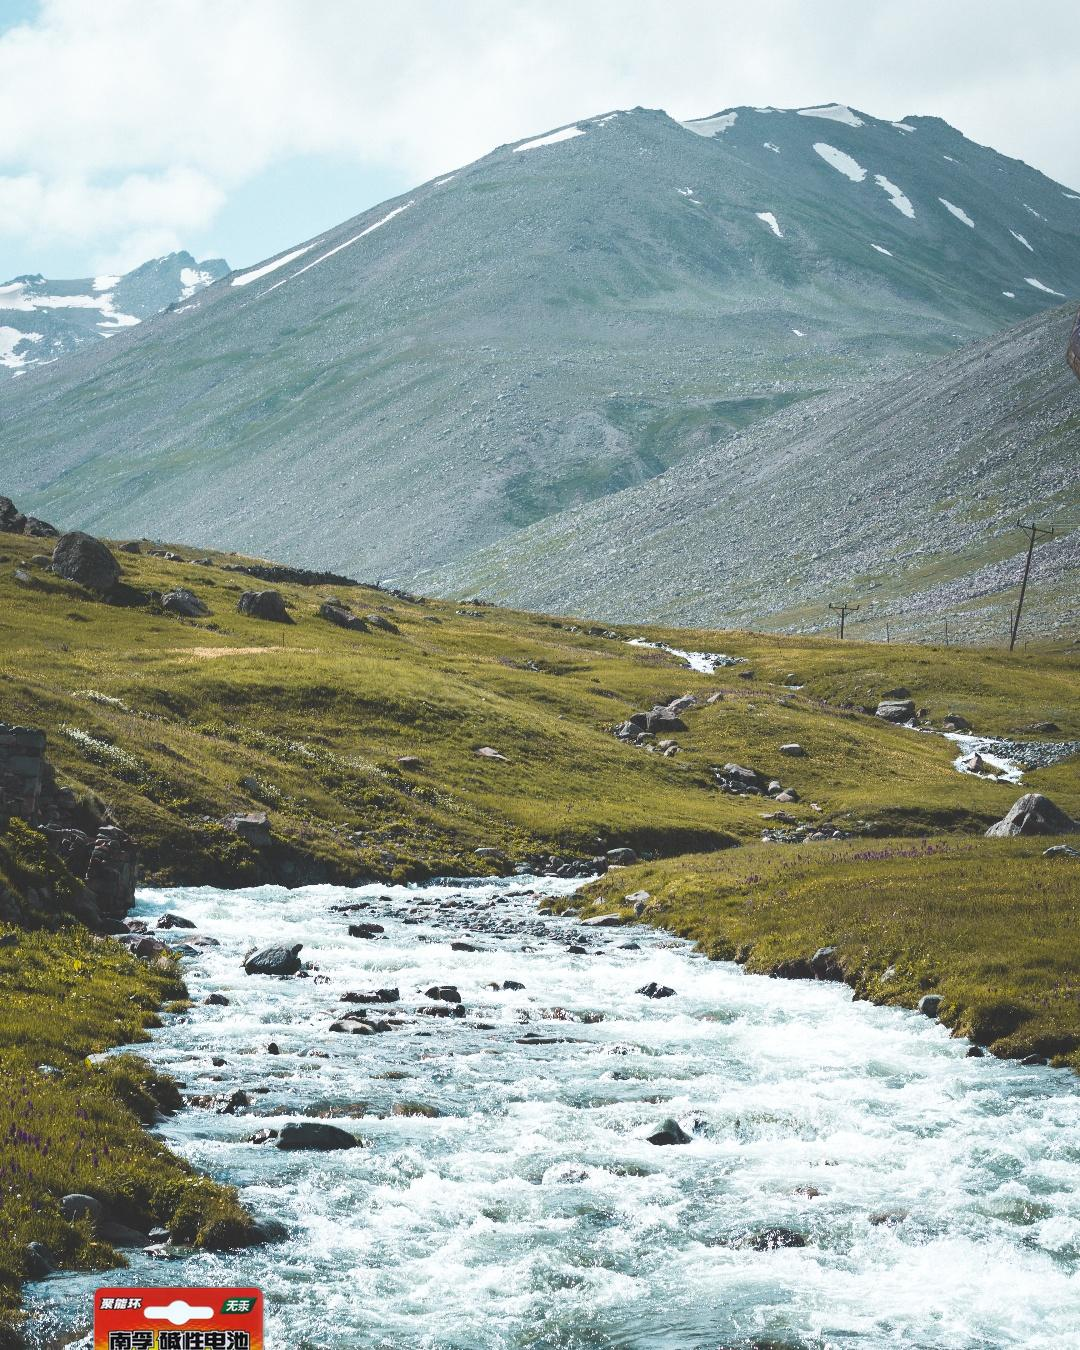battery: (91, 1284, 267, 1350)
plastic-bottles: (1063, 268, 1080, 496)
